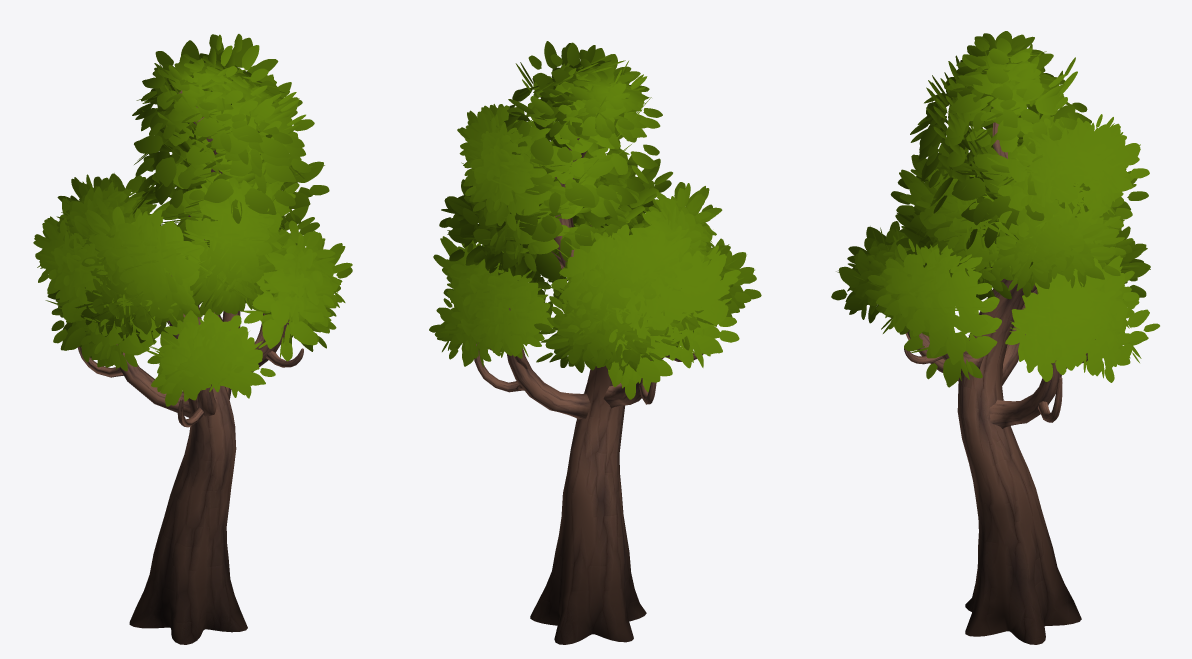
File: CommonTree_2.gltf
3 renders of one model, left to right at view 1: azimuth 30°, elevation 25°; view 2: azimuth 150°, elevation 25°; view 3: azimuth 270°, elevation 25°, orthographic. The views are drawn at different scales.
Parts seen in each view (by area): view 1: CommonTree_2; view 2: CommonTree_2; view 3: CommonTree_2.
Part boxes in pixels (x1,y1,x2,y2): CommonTree_2: (33,34,352,644); CommonTree_2: (429,41,761,644); CommonTree_2: (831,31,1159,644).
Size of the model in its own units: 4.46 by 7.64 by 4.28.
Materials: 2 (2 with a texture image).
